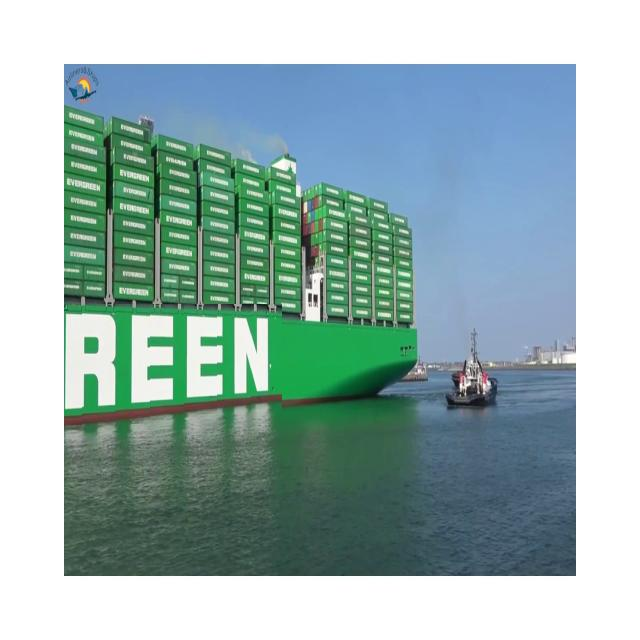OCR: (65, 304, 282, 430)
